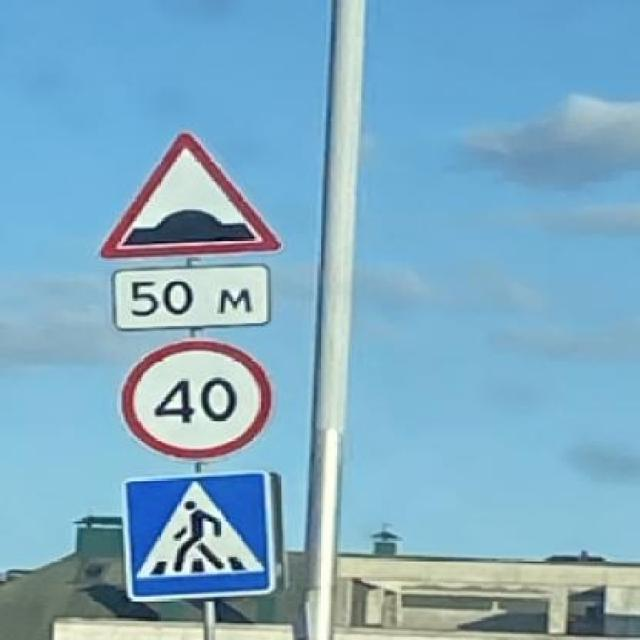forb_speed_over_40: (127, 342, 268, 460)
